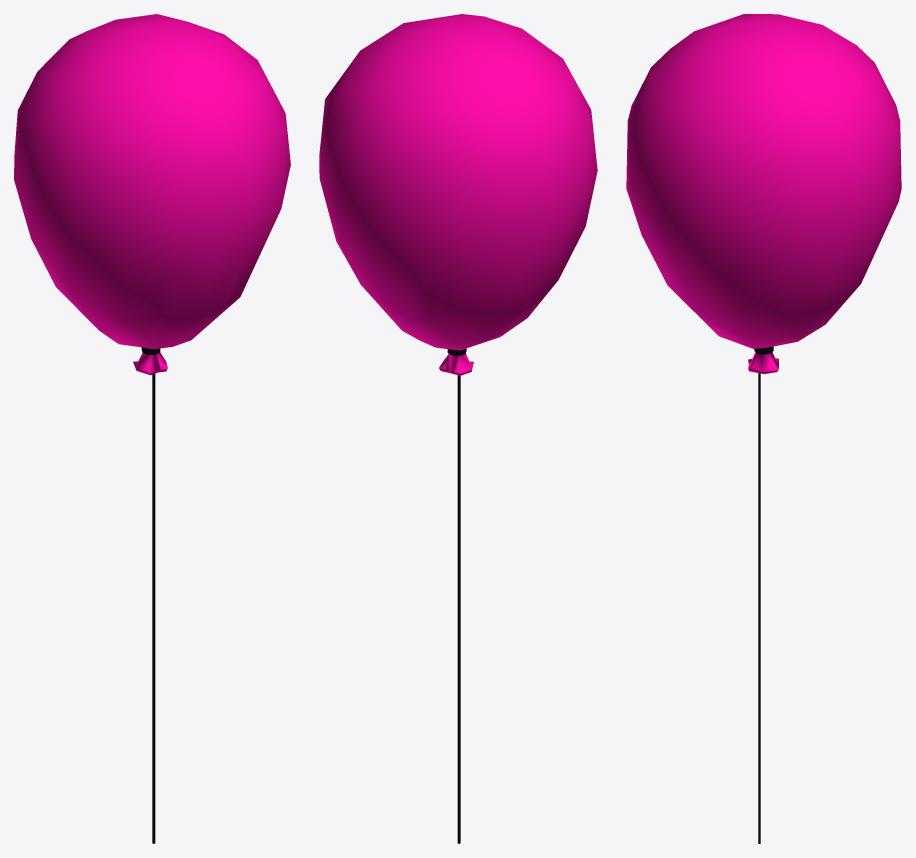
Rendered from SM_Balloon_String.fbx.
3 renders of one model, left to right at view 1: azimuth 30°, elevation 25°; view 2: azimuth 150°, elevation 25°; view 3: azimuth 270°, elevation 25°, orthographic.
Parts seen in each view (by area): view 1: bALLOON; view 2: bALLOON; view 3: bALLOON.
Part boxes in pixels (bbox=[...]): bALLOON: bbox=[14, 14, 290, 843]; bALLOON: bbox=[319, 14, 597, 843]; bALLOON: bbox=[626, 14, 901, 843].
Bounding box in the file's own units: 0.8873 × 2.86 × 0.8757.
